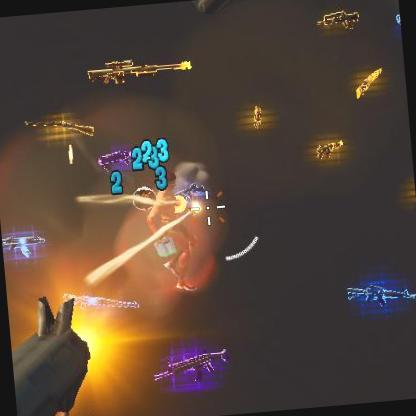person: (152, 188, 202, 290)
